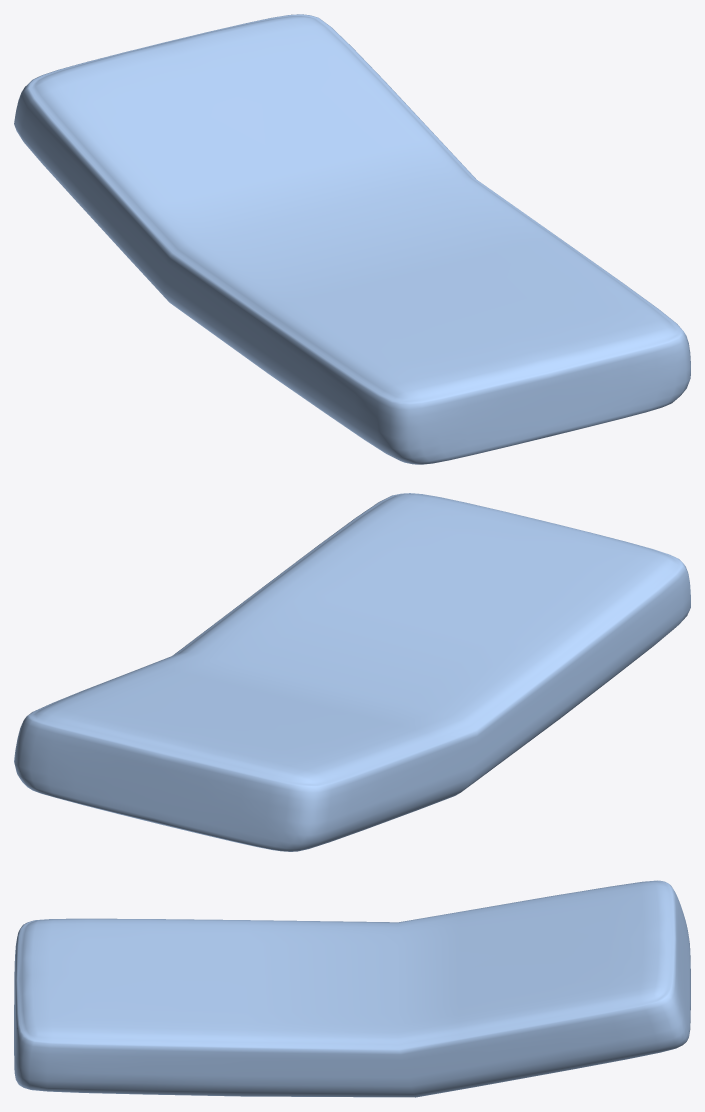
Rendered from Mattress.fbx.
The picture shows the model from 3 angles, top to bottom: view 1: azimuth 30°, elevation 25°; view 2: azimuth 150°, elevation 25°; view 3: azimuth 270°, elevation 25°; orthographic projection. The views are drawn at different scales.
Visible parts, largest first — view 1: mattress; view 2: mattress; view 3: mattress.
Part boxes in pixels (x1,y1,x2,y2): mattress: (14,14,690,464); mattress: (14,493,690,851); mattress: (14,880,690,1097).
Bounding box in the file's own units: 83.55 × 32.73 × 186.
1 material, 1 textured.
